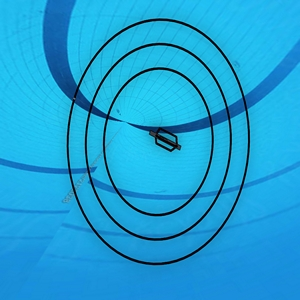circle: (67, 16, 251, 269)
submarine: (150, 127, 181, 154)
